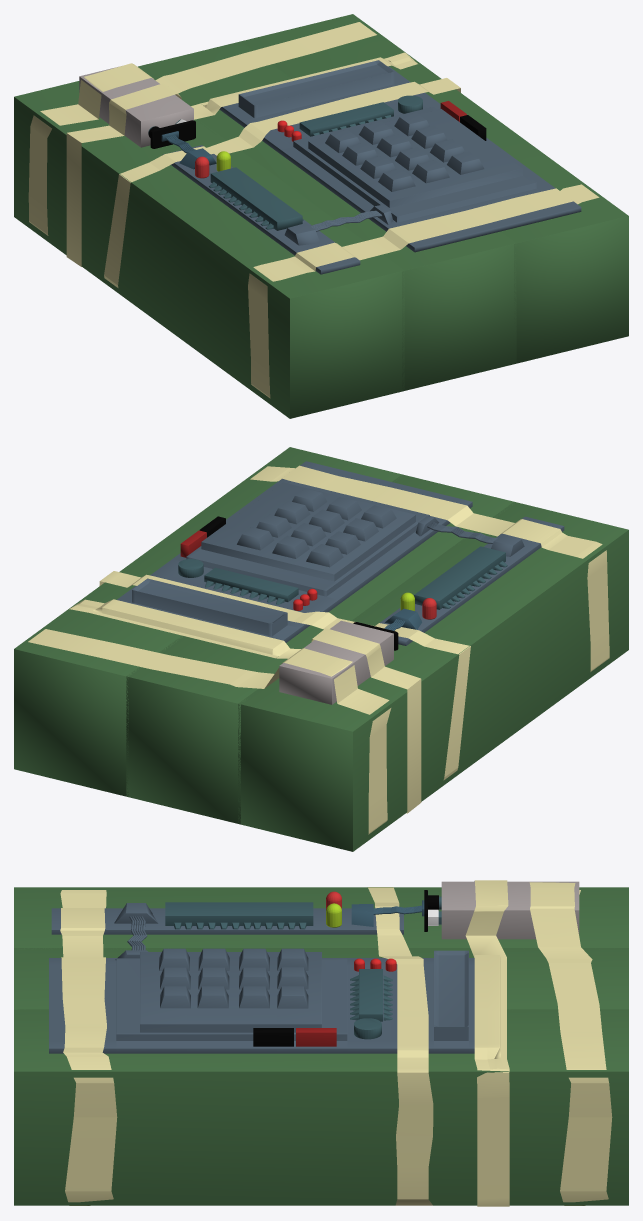
The picture shows the model from 3 angles, top to bottom: view 1: azimuth 30°, elevation 25°; view 2: azimuth 150°, elevation 25°; view 3: azimuth 270°, elevation 25°; orthographic projection. The views are drawn at different scales.
Parts seen in each view (by area): view 1: Cube; view 2: Cube; view 3: Cube.
Boxes of the visible parts, x1,y1,x2,y2 form: Cube: (14, 14, 628, 418); Cube: (14, 447, 628, 851); Cube: (14, 880, 628, 1206).
Size of the model in its own units: 599 by 255 by 832.
